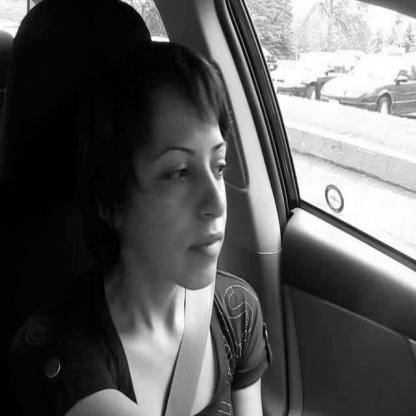seatbelt: (72, 31, 240, 416)
